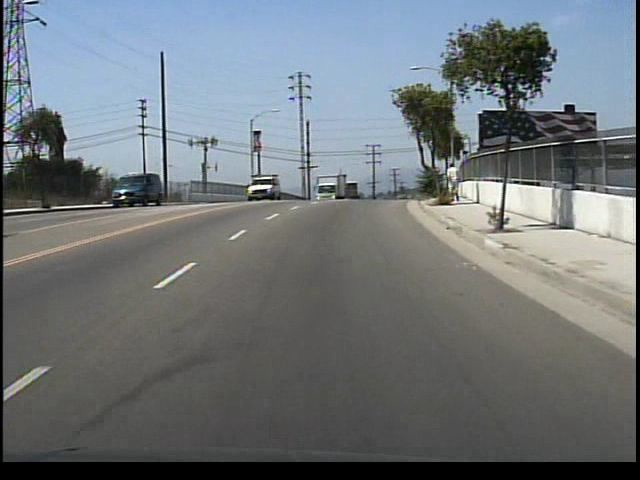person: (444, 159, 464, 205)
